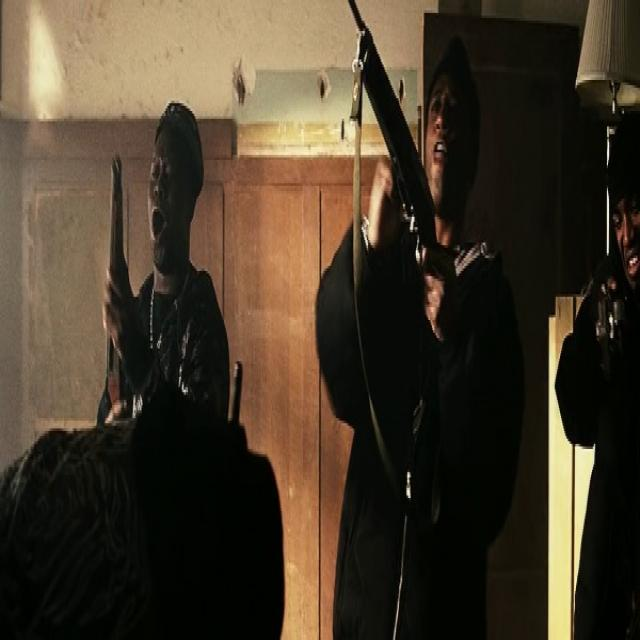rifle: (344, 1, 453, 281), (102, 144, 133, 422)
